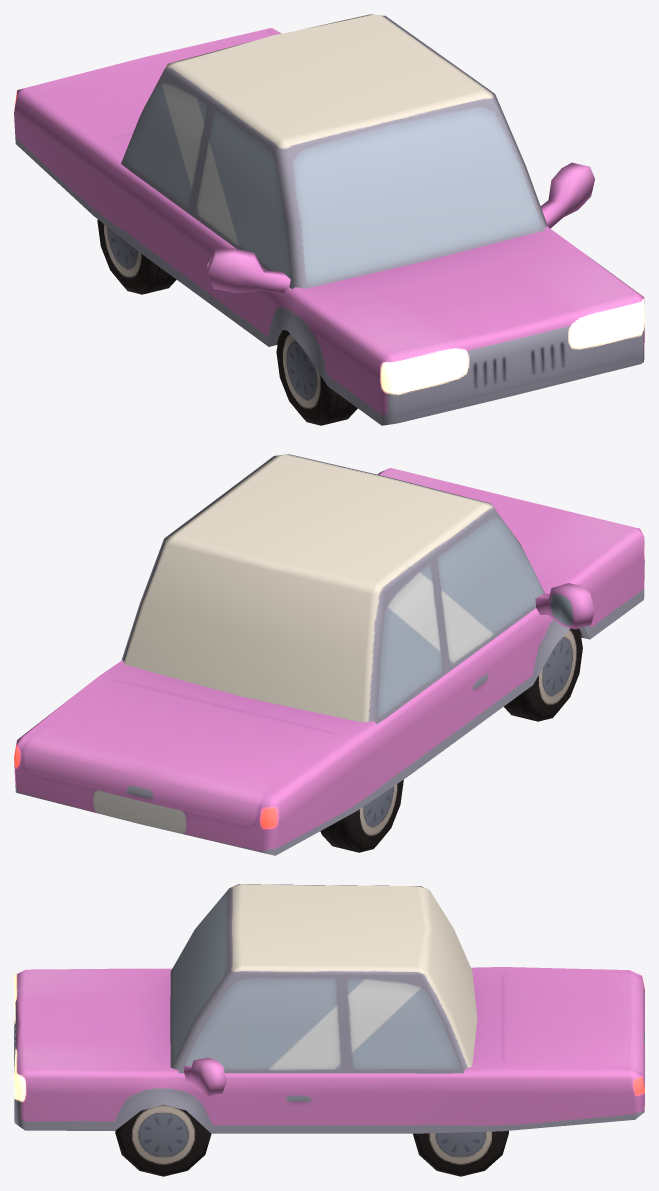
The model's file is Car_69.fbx.
3 views of the same model, one above another, from view 1: azimuth 30°, elevation 25°; view 2: azimuth 150°, elevation 25°; view 3: azimuth 270°, elevation 25° (orthographic). The views are drawn at different scales.
Visible parts, largest first — view 1: Car_69, Tire_FR, Tire_BR; view 2: Car_69, Tire_FR, Tire_BR; view 3: Car_69, Tire_FL, Tire_BL.
Boxes of the visible parts, <box> form: Car_69: <box>14,14,644,425</box>; Tire_FR: <box>276,330,357,425</box>; Tire_BR: <box>97,219,176,294</box>; Car_69: <box>14,454,644,855</box>; Tire_FR: <box>504,628,582,721</box>; Tire_BR: <box>320,779,403,852</box>; Car_69: <box>14,884,644,1133</box>; Tire_FL: <box>115,1105,211,1176</box>; Tire_BL: <box>413,1130,508,1176</box>.
Size of the model in its own units: 97.01 by 58.27 by 165.
